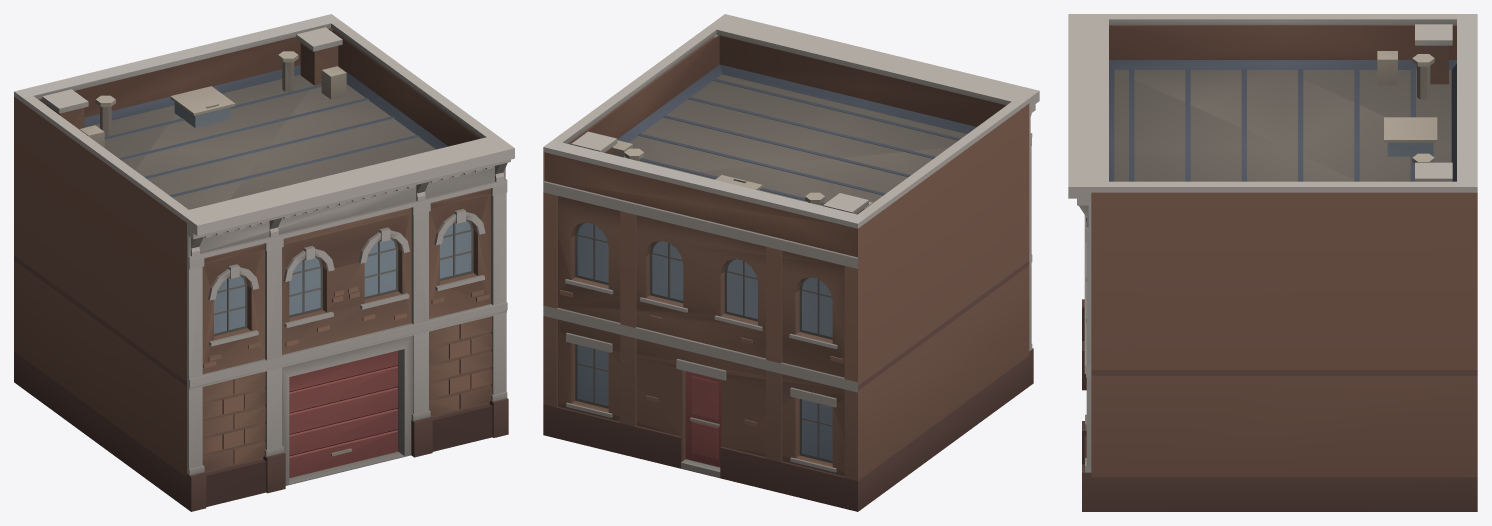
File: firehouse.glb
3 views of the same model, side by side, from view 1: azimuth 30°, elevation 25°; view 2: azimuth 150°, elevation 25°; view 3: azimuth 270°, elevation 25° (orthographic). The views are drawn at different scales.
Parts seen in each view (by area): view 1: firehouse; view 2: firehouse; view 3: firehouse.
Part boxes in pixels (bbox=[...]): firehouse: bbox=[14, 14, 514, 511]; firehouse: bbox=[543, 14, 1039, 511]; firehouse: bbox=[1068, 14, 1477, 511].
Bounding box in the file's own units: 8 × 7 × 8.
